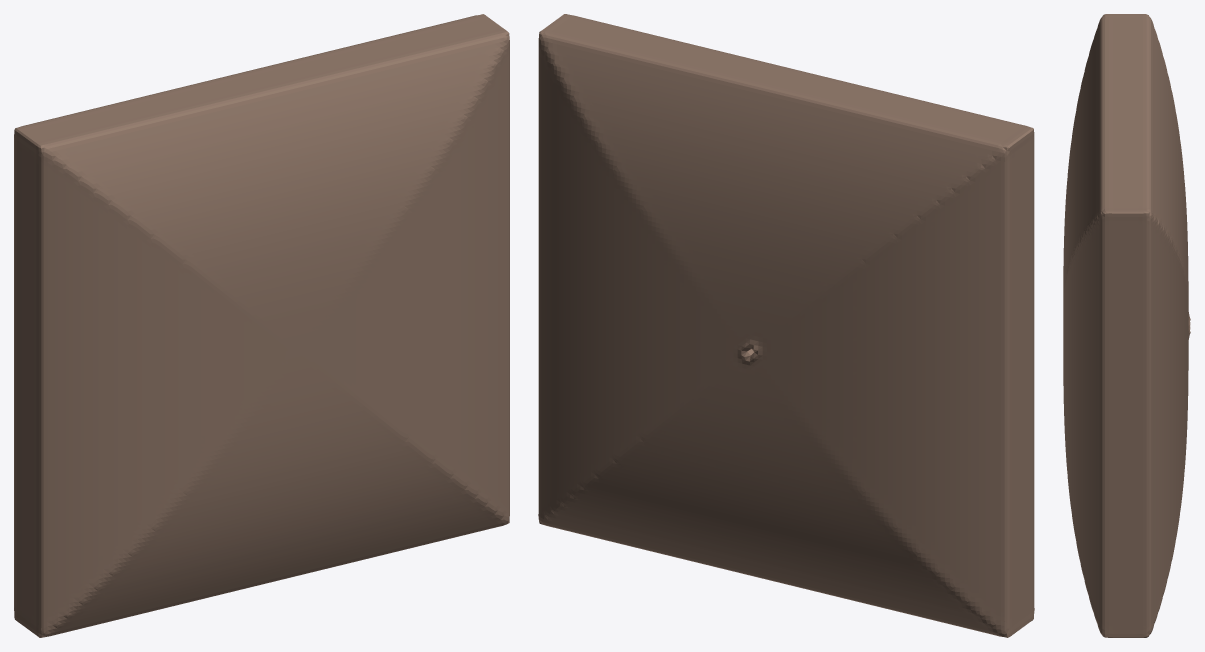
Rendered from pillow_brown.glb.
3 views of the same model, side by side, from view 1: azimuth 30°, elevation 25°; view 2: azimuth 150°, elevation 25°; view 3: azimuth 270°, elevation 25° (orthographic). The views are drawn at different scales.
Parts seen in each view (by area): view 1: geometry_0; view 2: geometry_0; view 3: geometry_0.
Boxes of the visible parts, left/top/right/bottom form: geometry_0: left=14, top=14, right=509, bottom=637; geometry_0: left=538, top=14, right=1034, bottom=637; geometry_0: left=1063, top=14, right=1190, bottom=637.
Size of the model in its own units: 0.4503 by 0.4503 by 0.1221.
